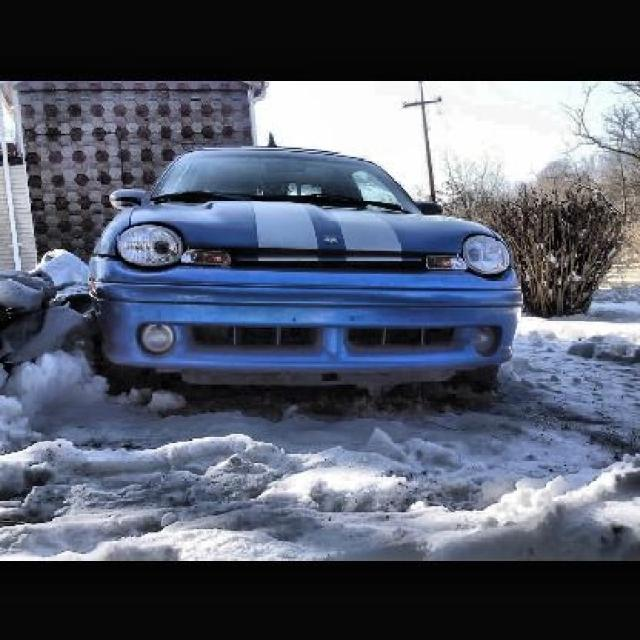blue: (84, 150, 592, 405)
